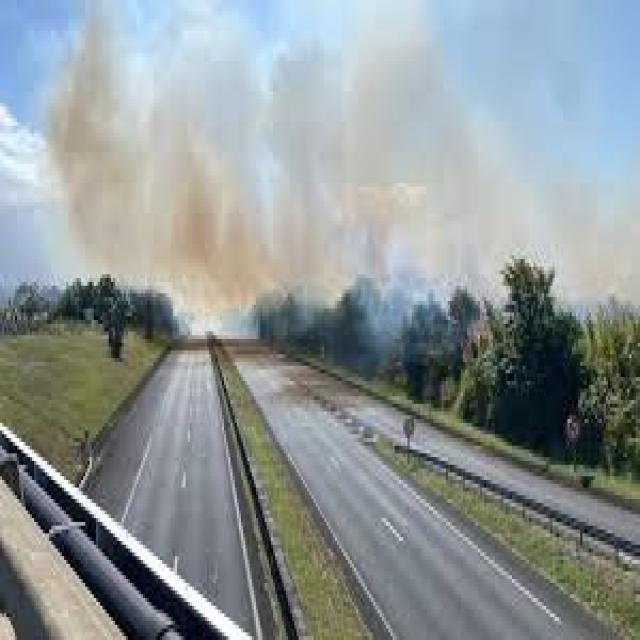fire: (38, 11, 251, 316)
smoke: (262, 14, 638, 272)
